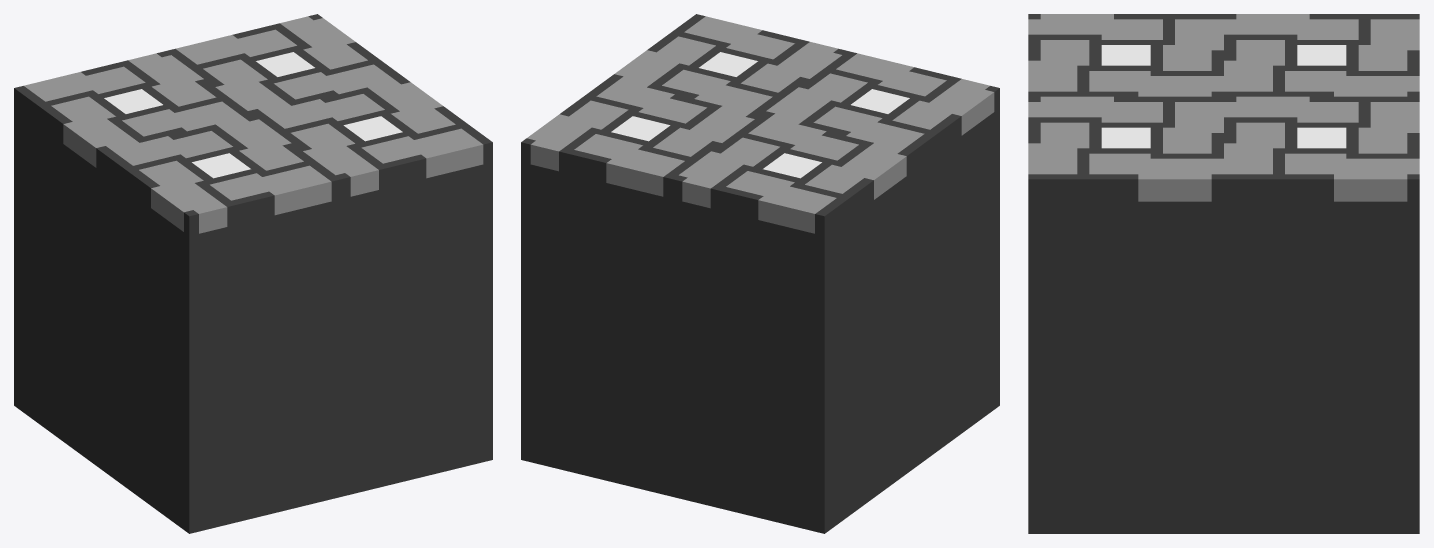
File: Road_Tile.obj
3 views of the same model, side by side, from view 1: azimuth 30°, elevation 25°; view 2: azimuth 150°, elevation 25°; view 3: azimuth 270°, elevation 25° (orthographic). The views are drawn at different scales.
Bounding box in the file's own units: 3.2 × 3.2 × 3.2.
1 material, 1 textured.
